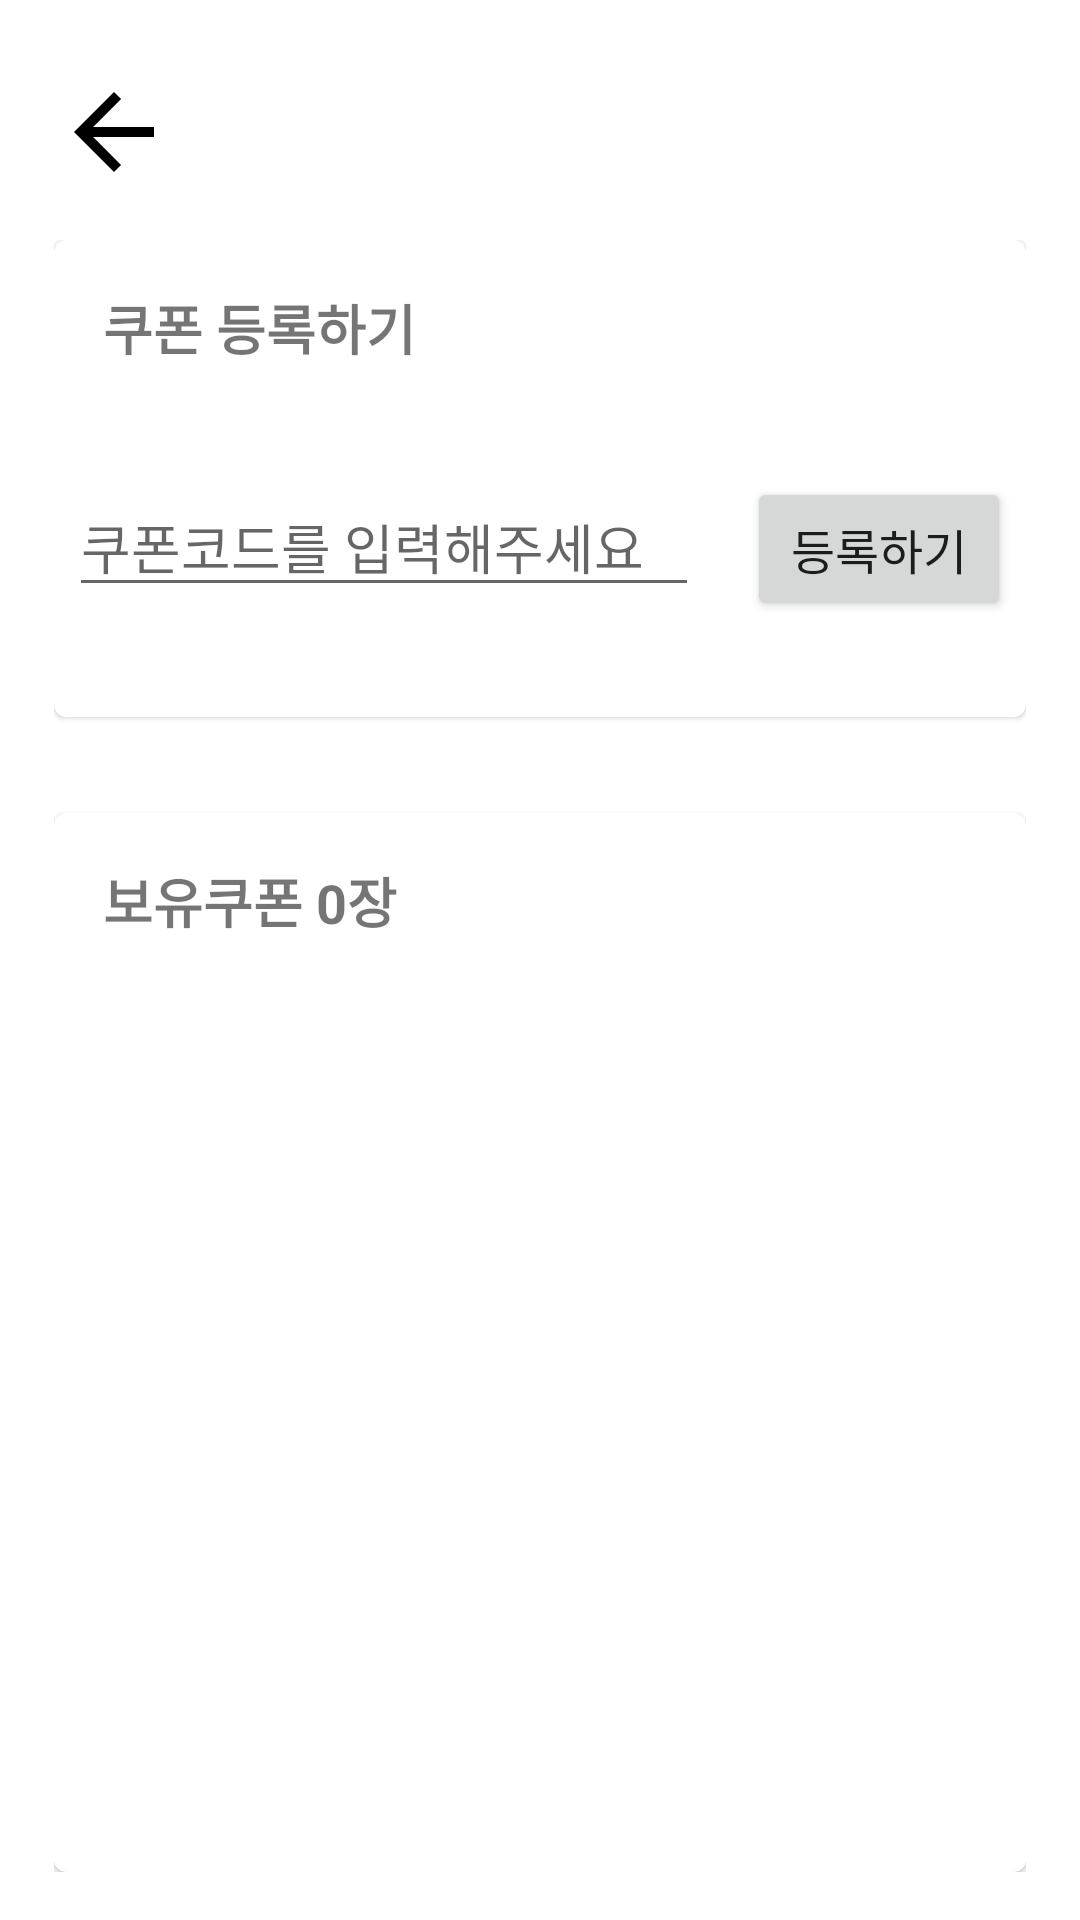

Screen size 1080×1920. Icon name, then its box in pixels as (x1, y1, x2, y2):
arrow back: (74, 92, 154, 172)
